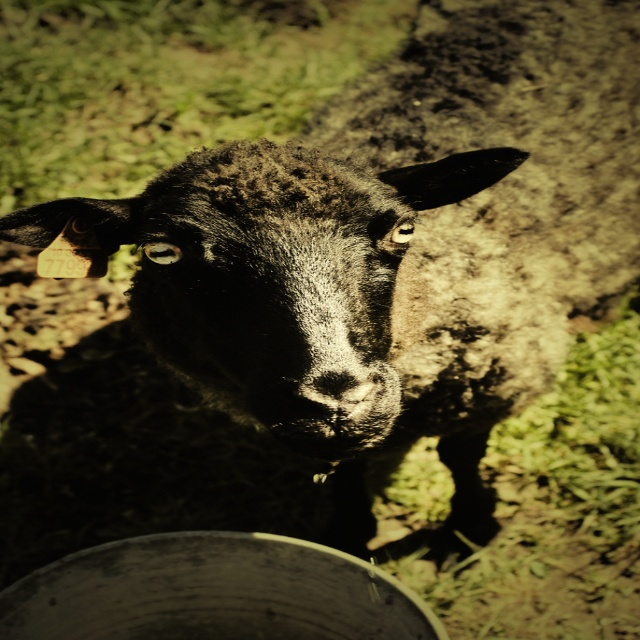Sheep: (0, 0, 639, 538)
